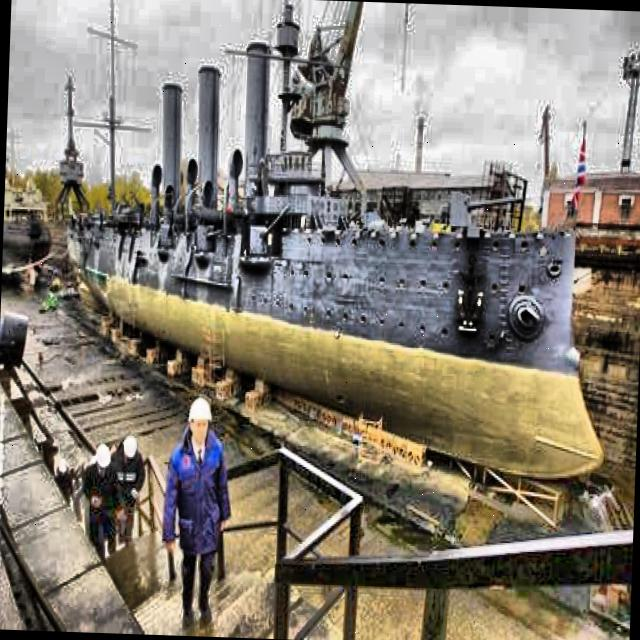helmet: (184, 390, 212, 444), (92, 440, 114, 475), (120, 429, 140, 461)
